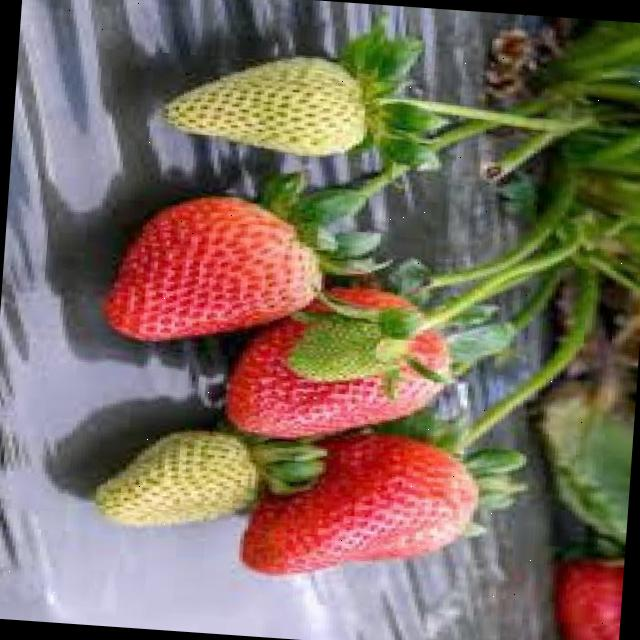strawberry: (239, 425, 483, 589), (227, 282, 455, 446), (104, 188, 330, 348), (162, 45, 378, 157), (94, 418, 262, 532)
